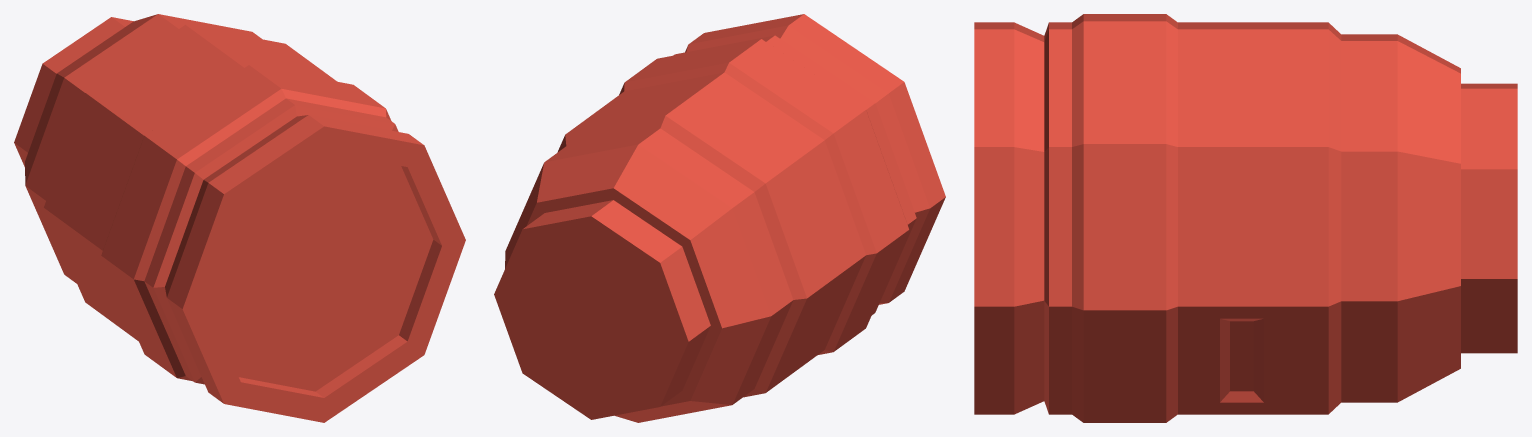
The model's file is SM_Camera_Dslr_Objective_Small.fbx.
3 renders of one model, left to right at view 1: azimuth 30°, elevation 25°; view 2: azimuth 150°, elevation 25°; view 3: azimuth 270°, elevation 25°, orthographic. The views are drawn at different scales.
Visible parts, largest first — view 1: SM_Camera_Dslr_Objective_Small; view 2: SM_Camera_Dslr_Objective_Small; view 3: SM_Camera_Dslr_Objective_Small.
Part boxes in pixels (x1,y1,x2,y2): SM_Camera_Dslr_Objective_Small: (14, 14, 465, 422); SM_Camera_Dslr_Objective_Small: (494, 14, 945, 422); SM_Camera_Dslr_Objective_Small: (974, 14, 1517, 422).
Size of the model in its own units: 10.69 by 8.57 by 8.57.
